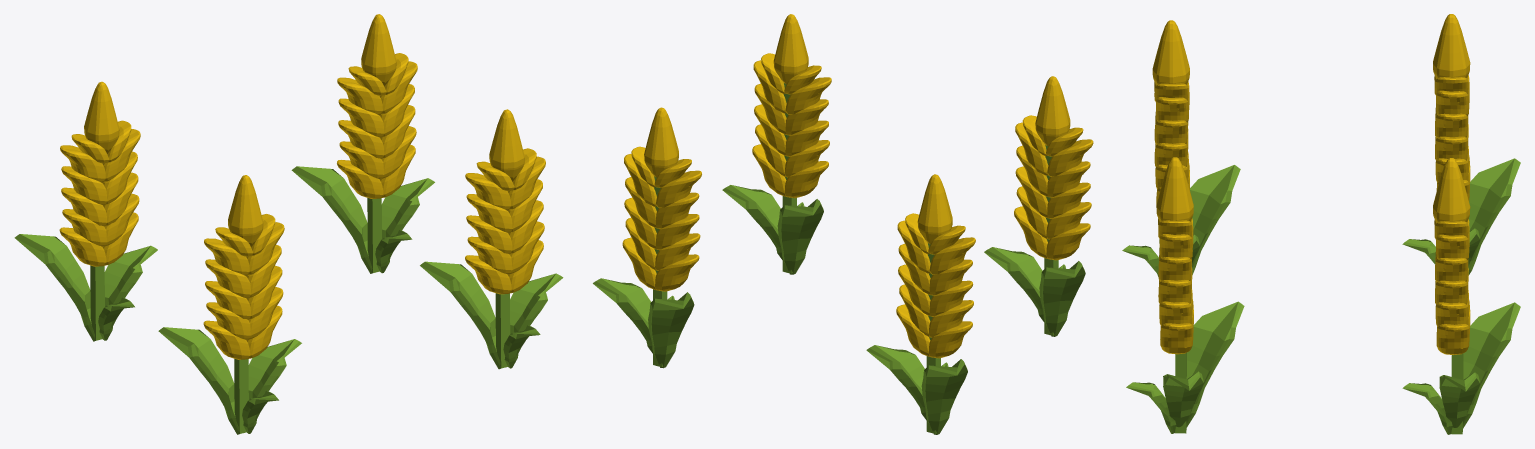
Rendered from Rice plant 4.fbx.
The picture shows the model from 3 angles, left to right: view 1: azimuth 30°, elevation 25°; view 2: azimuth 150°, elevation 25°; view 3: azimuth 270°, elevation 25°; orthographic projection. The views are drawn at different scales.
Parts seen in each view (by area): view 1: Cube.008, Cube.017, Cube.003, Cube.006; view 2: Cube.003, Cube.006, Cube.008, Cube.017; view 3: Cube.017, Cube.003, Cube.006, Cube.008.
Boxes of the visible parts, x1,y1,x2,y2 form: Cube.008: [158, 175, 301, 434]; Cube.017: [291, 14, 434, 273]; Cube.003: [420, 109, 563, 369]; Cube.006: [14, 81, 157, 341]; Cube.003: [722, 14, 831, 274]; Cube.006: [866, 174, 975, 434]; Cube.008: [984, 76, 1093, 336]; Cube.017: [593, 107, 701, 368]; Cube.017: [1402, 158, 1520, 434]; Cube.003: [1126, 157, 1244, 433]; Cube.006: [1402, 14, 1520, 275]; Cube.008: [1122, 20, 1240, 276].
Size of the model in its own units: 219 by 138 by 180.
